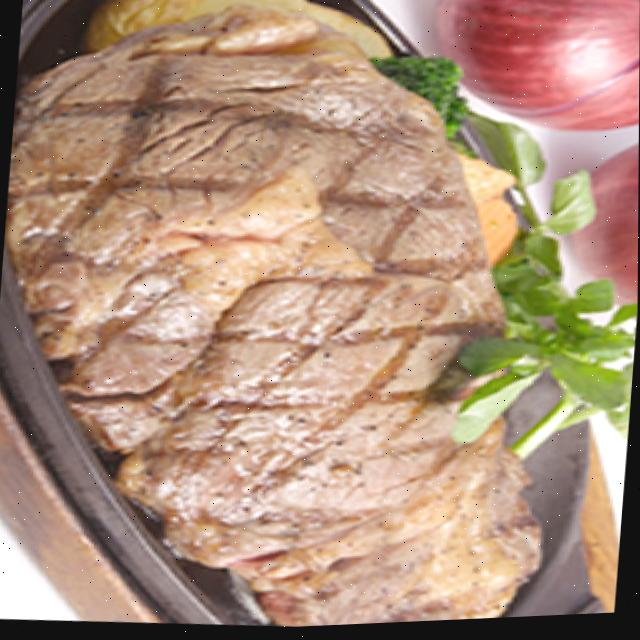牛肉菜式: (0, 0, 596, 640)
